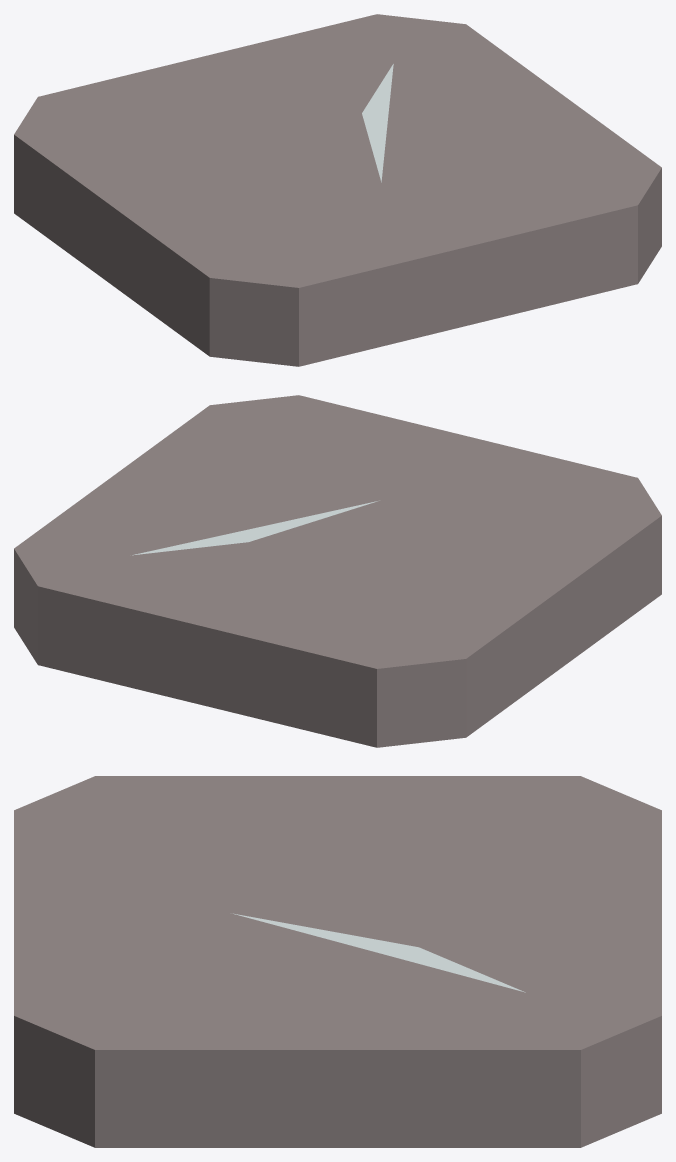
File: teleport-tablets.gltf
3 renders of one model, top to bottom at view 1: azimuth 30°, elevation 25°; view 2: azimuth 150°, elevation 25°; view 3: azimuth 270°, elevation 25°, orthographic. The views are drawn at different scales.
Bounding box in the file's own units: 24 × 4 × 24.
1 material, 1 textured.
